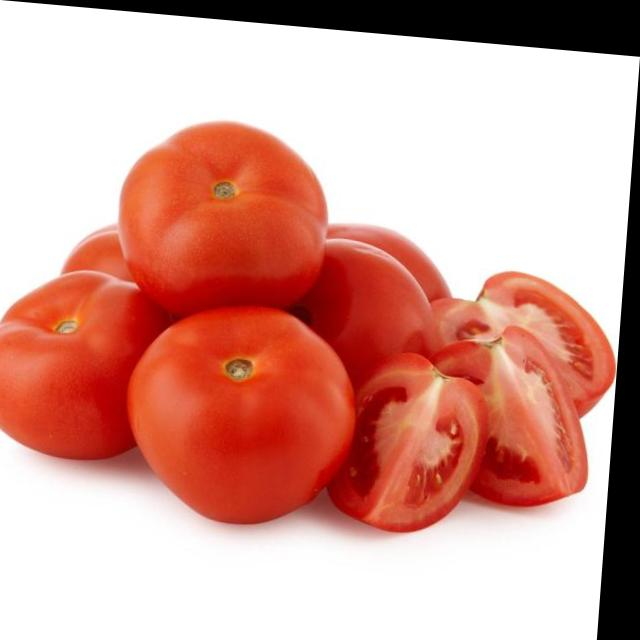kirmizi: (0, 80, 413, 517)
